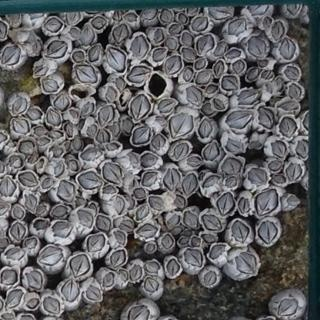Barnacle: (11, 97, 41, 120), (254, 188, 277, 216), (169, 112, 193, 138), (225, 109, 253, 130), (235, 251, 257, 275), (195, 70, 217, 94), (77, 202, 98, 227), (256, 219, 277, 243), (77, 171, 102, 191), (130, 95, 150, 120), (69, 254, 90, 277), (39, 246, 64, 265), (125, 66, 151, 84), (18, 140, 38, 163), (277, 297, 301, 316), (200, 98, 225, 116), (107, 47, 125, 72), (130, 34, 148, 59), (230, 220, 249, 243), (56, 179, 75, 202), (103, 161, 122, 184), (45, 38, 66, 58), (217, 191, 234, 215), (247, 35, 266, 56), (226, 17, 247, 36), (257, 106, 275, 128), (61, 278, 78, 301), (185, 248, 204, 268), (247, 167, 267, 186), (75, 65, 96, 83), (279, 116, 297, 136), (207, 5, 231, 20), (185, 85, 202, 106), (182, 172, 197, 195), (164, 167, 179, 190), (222, 157, 241, 175), (295, 139, 312, 159), (130, 126, 150, 143), (165, 55, 182, 75), (196, 33, 213, 53), (52, 221, 73, 237), (0, 175, 16, 196), (98, 106, 114, 127), (80, 23, 95, 45), (87, 234, 105, 252), (43, 295, 60, 314), (25, 270, 42, 289), (135, 224, 158, 238), (237, 90, 260, 104), (202, 214, 222, 230), (112, 24, 128, 44), (127, 306, 149, 320), (280, 38, 294, 60), (6, 290, 22, 309), (10, 222, 26, 241), (182, 210, 198, 229), (18, 171, 37, 187), (3, 46, 19, 65), (43, 17, 63, 32), (246, 1, 269, 14), (221, 74, 239, 90), (286, 162, 301, 181), (204, 142, 219, 161), (198, 118, 211, 139), (86, 285, 102, 302), (0, 269, 17, 285), (270, 141, 287, 157), (11, 118, 28, 134), (110, 249, 125, 267), (97, 215, 112, 233), (139, 153, 158, 167), (271, 20, 284, 40), (142, 171, 159, 186), (225, 137, 242, 152), (158, 98, 175, 113), (81, 148, 102, 160), (90, 16, 108, 30), (40, 79, 59, 92), (209, 244, 225, 259), (148, 195, 164, 210), (174, 143, 190, 158), (65, 8, 80, 24), (237, 195, 250, 213), (140, 7, 158, 20), (4, 248, 25, 259), (25, 193, 37, 212), (105, 85, 117, 104), (202, 270, 217, 285), (150, 134, 165, 149), (95, 129, 110, 144), (144, 277, 158, 293), (54, 95, 68, 111), (102, 271, 115, 288), (203, 175, 220, 188), (213, 58, 225, 76), (88, 44, 100, 62), (135, 204, 149, 219), (8, 154, 23, 168), (285, 65, 299, 80), (130, 264, 143, 280), (166, 258, 178, 275), (46, 111, 60, 125), (160, 234, 173, 249), (119, 219, 134, 232), (81, 102, 94, 117), (153, 47, 166, 62), (108, 122, 120, 138), (289, 83, 301, 99), (6, 12, 20, 25), (160, 8, 173, 22), (113, 230, 125, 245), (113, 195, 123, 213), (40, 177, 55, 189), (267, 159, 282, 171), (153, 29, 165, 44), (119, 90, 130, 106), (51, 206, 68, 216), (86, 121, 96, 138), (123, 118, 133, 135), (280, 99, 297, 109), (28, 11, 45, 21), (182, 47, 195, 60), (287, 0, 300, 13), (247, 67, 259, 81), (232, 60, 244, 74), (165, 37, 177, 51), (145, 262, 160, 273), (186, 156, 201, 167), (33, 64, 48, 75), (63, 123, 73, 139), (225, 49, 241, 59), (13, 206, 25, 219), (173, 195, 185, 208), (26, 297, 40, 308), (33, 219, 47, 230), (126, 152, 137, 166), (118, 269, 128, 284), (200, 233, 215, 243), (55, 160, 64, 176), (285, 195, 298, 206), (215, 42, 226, 55), (272, 174, 286, 184), (274, 76, 284, 90), (182, 67, 192, 81), (182, 32, 192, 46), (262, 16, 272, 30), (48, 130, 63, 139), (225, 177, 237, 188), (154, 116, 166, 127), (73, 50, 84, 62), (24, 238, 37, 248), (167, 213, 177, 226), (102, 185, 115, 195), (36, 136, 49, 146), (260, 69, 273, 79), (168, 24, 181, 34), (116, 76, 125, 90), (67, 160, 78, 171), (194, 58, 205, 69), (133, 188, 145, 198), (72, 138, 82, 150), (68, 27, 79, 37), (125, 196, 134, 208), (50, 146, 62, 155), (250, 139, 262, 148), (124, 13, 136, 22), (1, 311, 14, 319), (34, 126, 47, 134), (33, 40, 41, 53), (191, 236, 201, 246), (35, 204, 46, 213), (178, 13, 187, 24), (113, 9, 122, 20), (178, 237, 190, 245), (106, 142, 118, 150), (187, 4, 197, 13), (171, 227, 182, 235), (265, 82, 273, 93), (78, 118, 85, 130), (146, 243, 155, 252), (0, 239, 9, 248), (259, 58, 268, 67), (69, 110, 79, 118), (0, 161, 4, 173)
